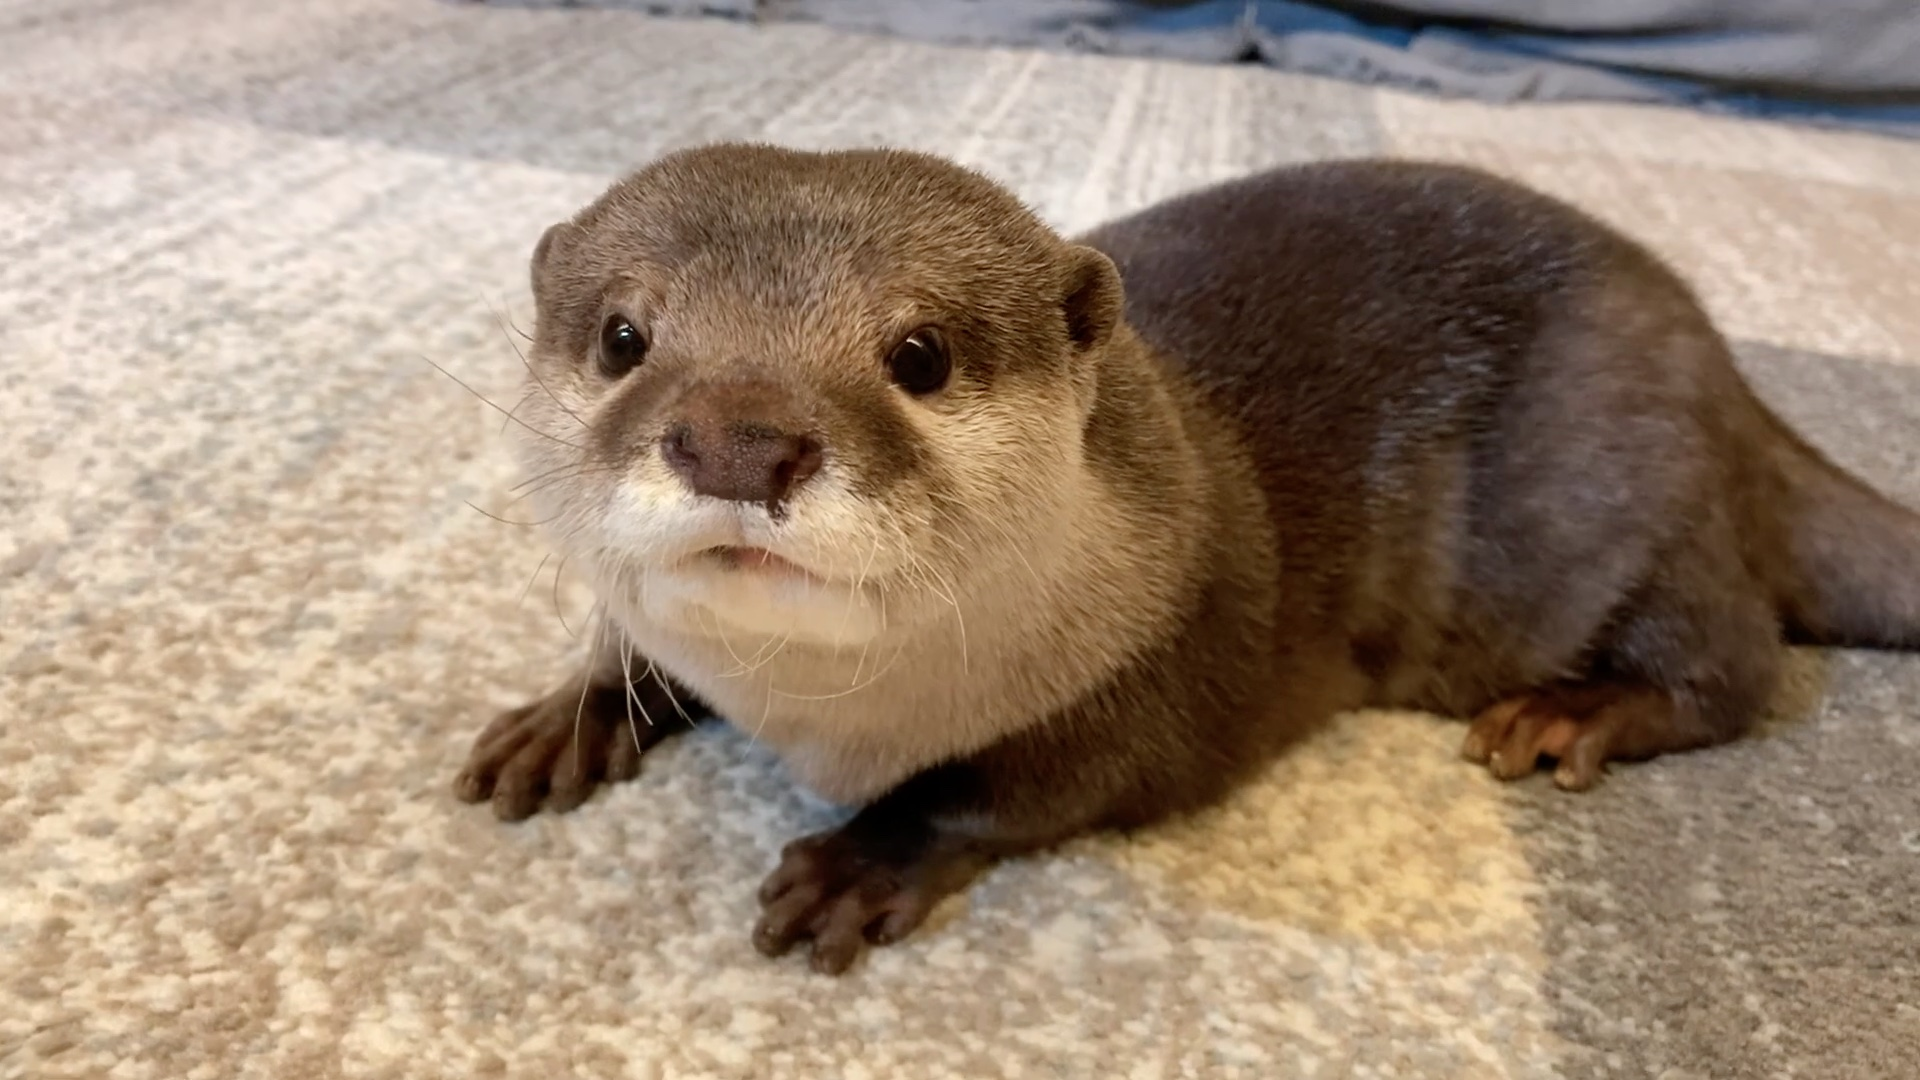otter: (451, 142, 1920, 976)
